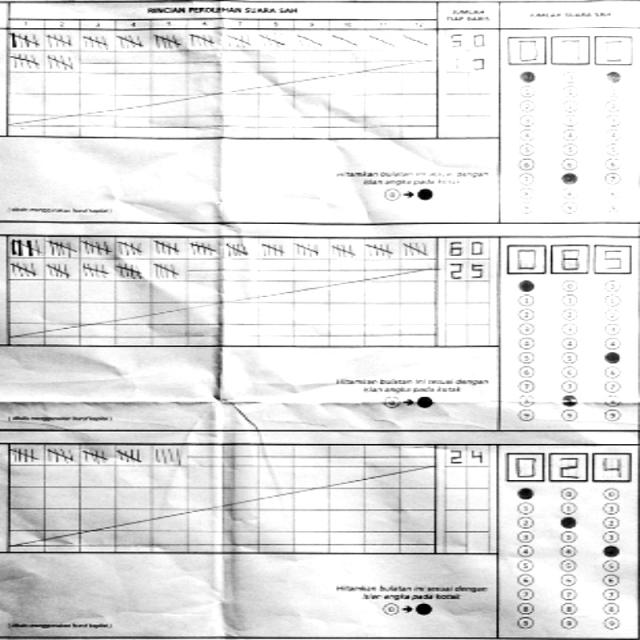Suara: (502, 29, 638, 69), (503, 238, 639, 278), (500, 446, 636, 486)
